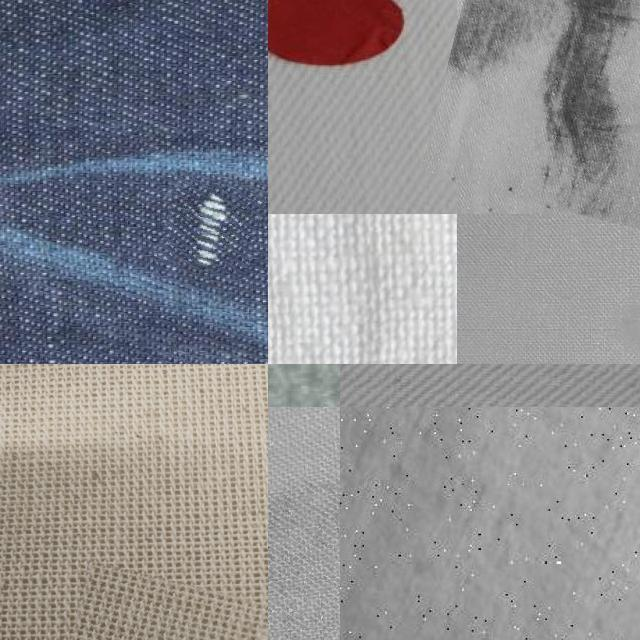Hole: (439, 0, 640, 228), (268, 449, 339, 640)
Thread_other: (160, 174, 262, 278)
